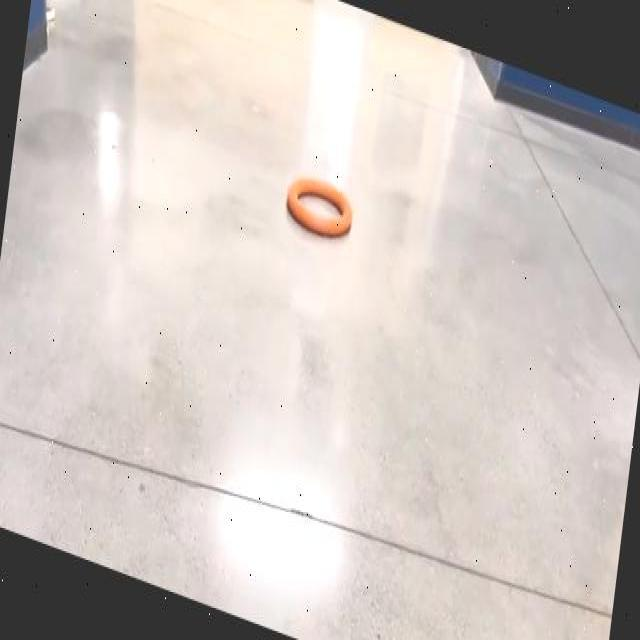note: (287, 175, 353, 235)
